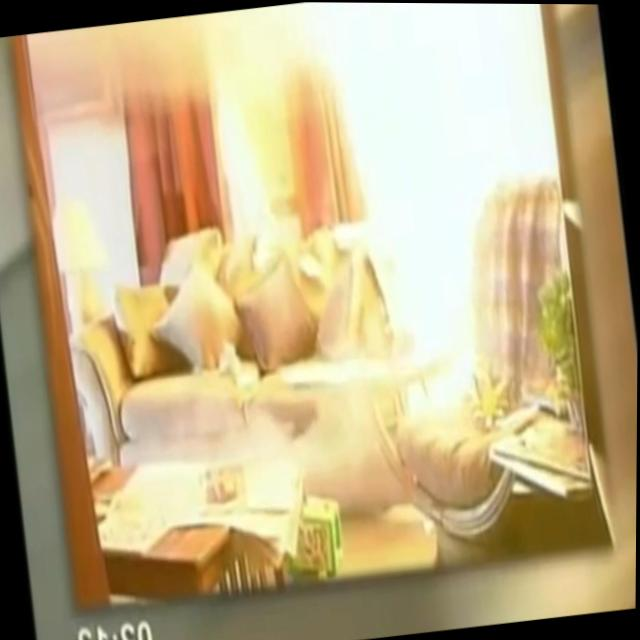fire: (356, 60, 512, 414)
